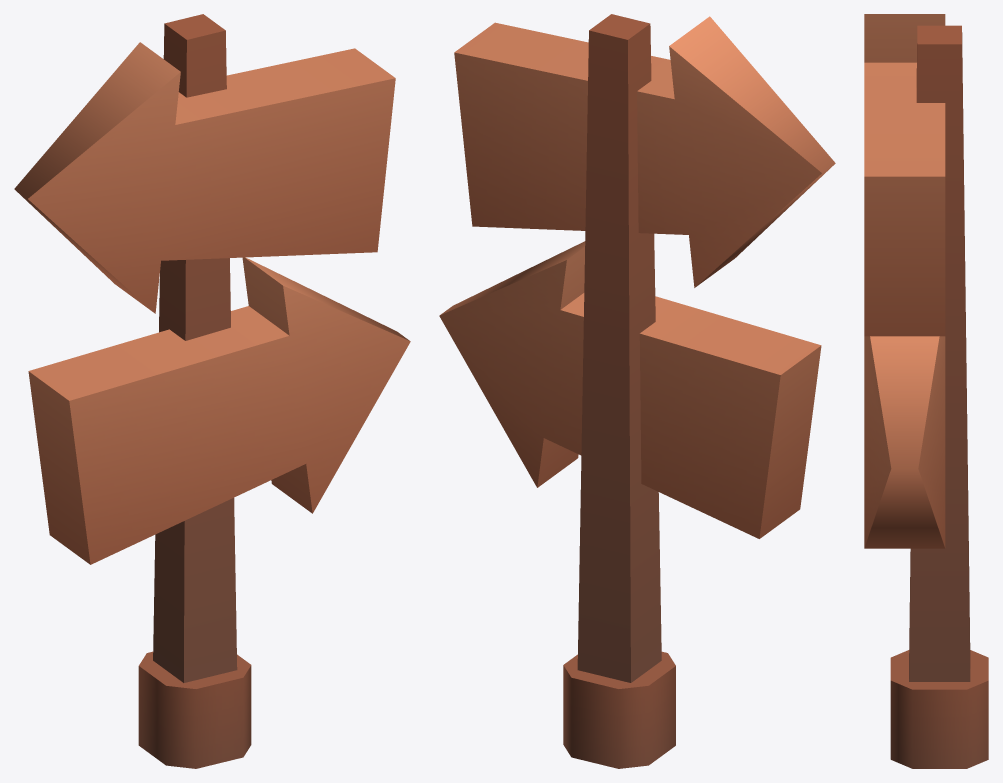
The model's file is arrows.glb.
The picture shows the model from 3 angles, left to right: view 1: azimuth 30°, elevation 25°; view 2: azimuth 150°, elevation 25°; view 3: azimuth 270°, elevation 25°; orthographic projection.
Parts seen in each view (by area): view 1: arrows; view 2: arrows; view 3: arrows.
Boxes of the visible parts, left/top/right/bottom form: arrows: left=14, top=14, right=410, bottom=768; arrows: left=439, top=14, right=835, bottom=768; arrows: left=864, top=14, right=988, bottom=768.
Bounding box in the file's own units: 0.5023 × 0.9 × 0.1423.
1 material, 1 textured.
